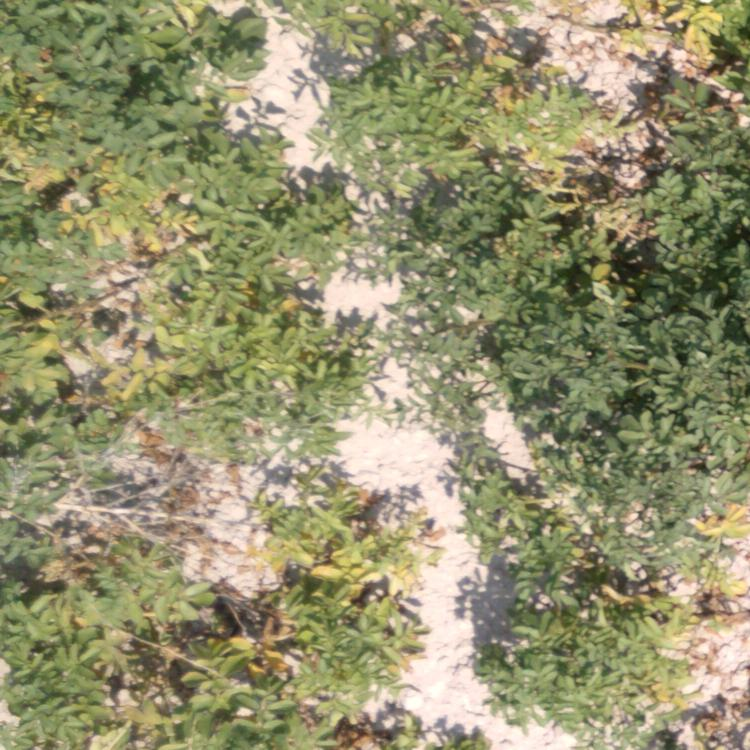healthy: (576, 294, 745, 496), (2, 1, 234, 135), (421, 172, 559, 385), (1, 577, 159, 746), (649, 98, 738, 280), (218, 145, 346, 248)
stressed: (1, 141, 211, 550), (487, 504, 747, 722), (329, 4, 598, 155), (176, 581, 398, 738), (218, 272, 363, 457), (263, 473, 408, 574), (629, 1, 745, 80), (574, 165, 646, 281)
